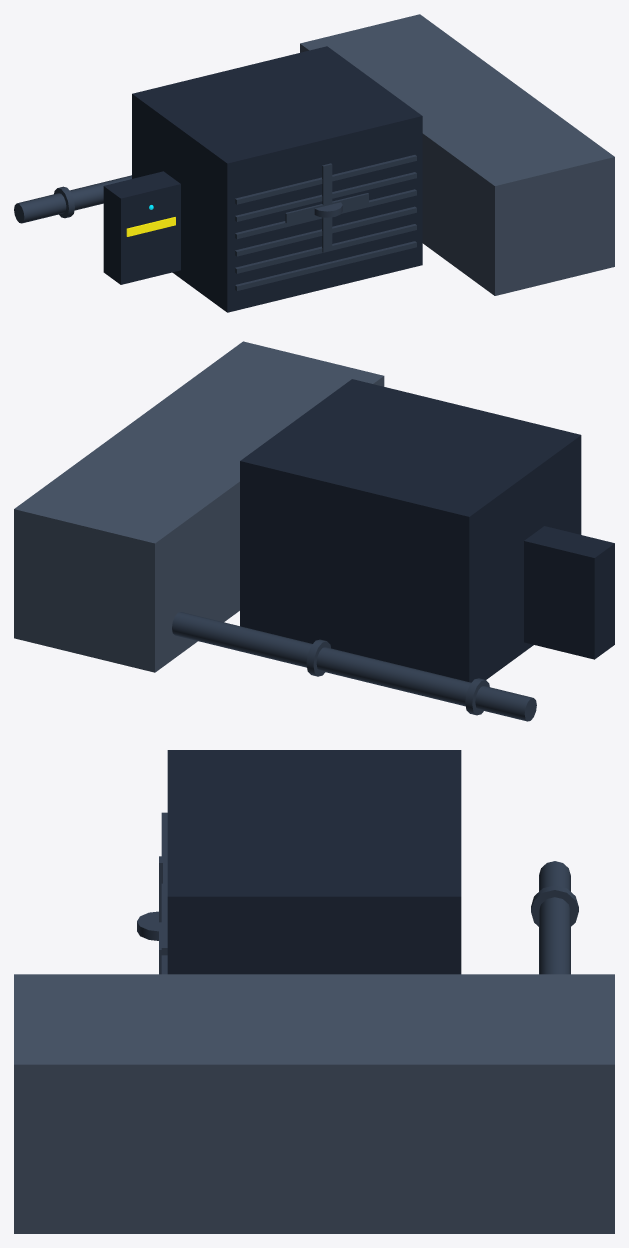
The model's file is rooftop_machinery.glb.
The picture shows the model from 3 angles, top to bottom: view 1: azimuth 30°, elevation 25°; view 2: azimuth 150°, elevation 25°; view 3: azimuth 270°, elevation 25°; orthographic projection. The views are drawn at different scales.
Parts seen in each view (by area): view 1: Rooftop_Industrial_Machinery; view 2: Rooftop_Industrial_Machinery; view 3: Rooftop_Industrial_Machinery.
Boxes of the visible parts, x1,y1,x2,y2 form: Rooftop_Industrial_Machinery: (14,14,614,312); Rooftop_Industrial_Machinery: (14,341,614,721); Rooftop_Industrial_Machinery: (14,750,614,1233).
Size of the model in its own units: 5.6 by 1.9 by 4.5.
